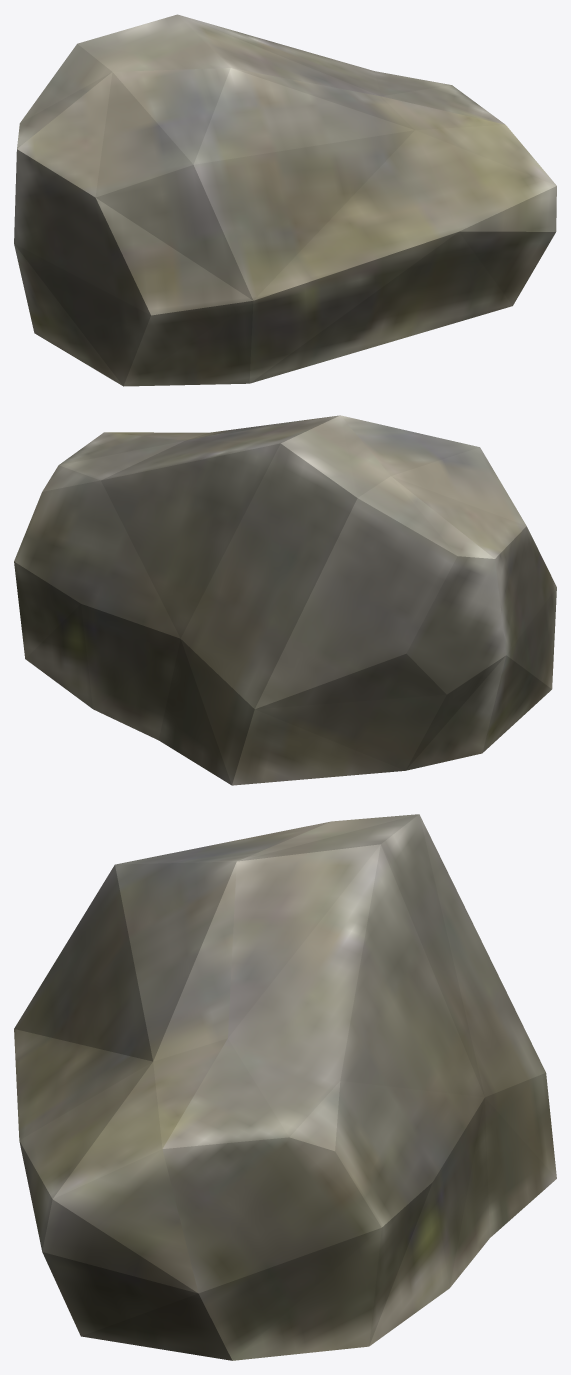
File: rocklarge.glb
3 views of the same model, one above another, from view 1: azimuth 30°, elevation 25°; view 2: azimuth 150°, elevation 25°; view 3: azimuth 270°, elevation 25° (orthographic). The views are drawn at different scales.
Parts seen in each view (by area): view 1: RockLrg-01; view 2: RockLrg-01; view 3: RockLrg-01.
Part boxes in pixels (bbox=[...]): RockLrg-01: bbox=[14, 14, 556, 386]; RockLrg-01: bbox=[14, 415, 556, 785]; RockLrg-01: bbox=[14, 814, 556, 1360].
Size of the model in its own units: 0.5108 by 0.2799 by 0.3952.
1 material, 1 textured.
